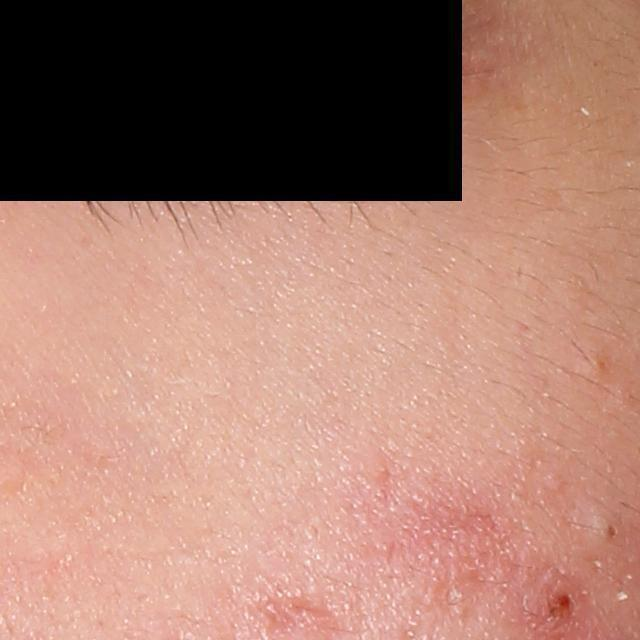comedo: (591, 510, 628, 551)
papule: (525, 575, 586, 635)
